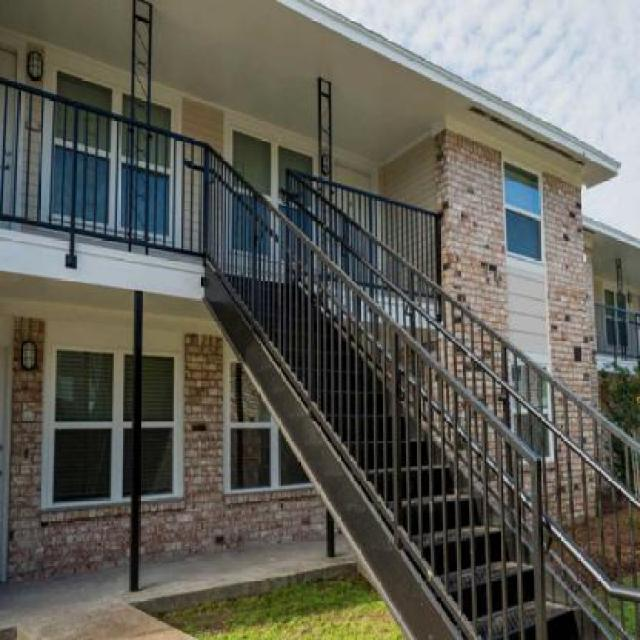stair: (162, 136, 640, 639)
